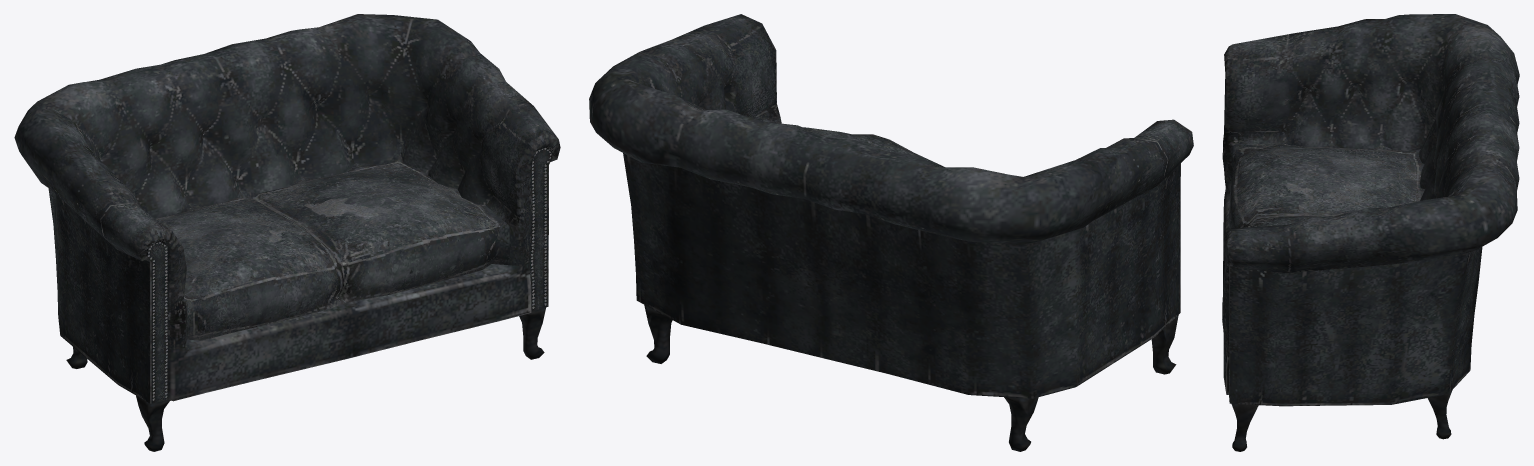
The model's file is 036_OfficeSofa.fbx.
3 renders of one model, left to right at view 1: azimuth 30°, elevation 25°; view 2: azimuth 150°, elevation 25°; view 3: azimuth 270°, elevation 25°, orthographic. The views are drawn at different scales.
Parts seen in each view (by area): view 1: LOD_1_Group_0_Sub_1__sm30_036_OfficeSofa02A_A_Mat; view 2: LOD_1_Group_0_Sub_1__sm30_036_OfficeSofa02A_A_Mat; view 3: LOD_1_Group_0_Sub_1__sm30_036_OfficeSofa02A_A_Mat.
Part boxes in pixels (box(x1,y1,x2,y2)): LOD_1_Group_0_Sub_1__sm30_036_OfficeSofa02A_A_Mat: box(14, 14, 560, 451); LOD_1_Group_0_Sub_1__sm30_036_OfficeSofa02A_A_Mat: box(589, 14, 1193, 451); LOD_1_Group_0_Sub_1__sm30_036_OfficeSofa02A_A_Mat: box(1222, 14, 1519, 451).
Size of the model in its own units: 1.84 by 1.04 by 1.1.
